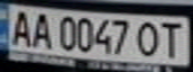0: (54, 12, 78, 52), (75, 15, 93, 53)
4: (93, 16, 115, 55)
7: (112, 17, 136, 55)
A: (6, 7, 36, 47), (27, 10, 54, 48)
O: (133, 19, 163, 57)
T: (157, 18, 187, 58)
